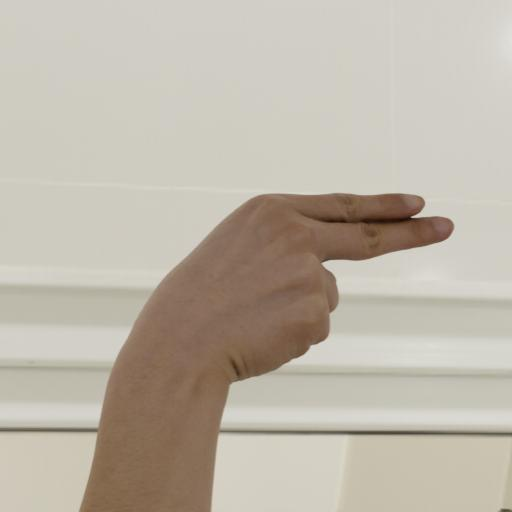H: (115, 145, 463, 411)
